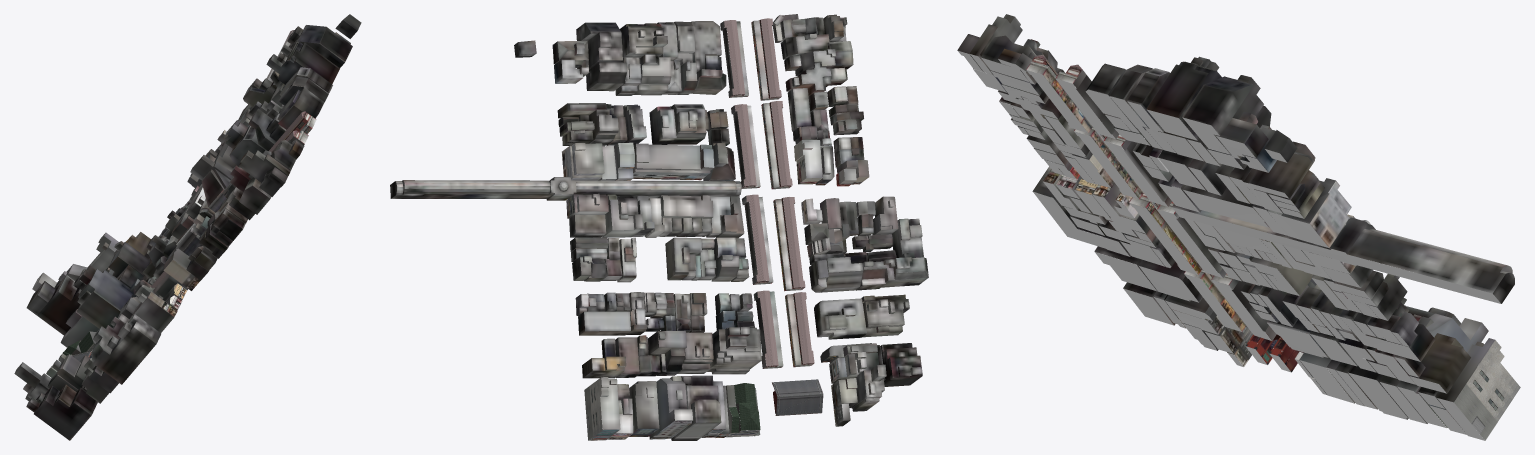
3 renders of one model, left to right at view 1: azimuth 30°, elevation 25°; view 2: azimuth 150°, elevation 25°; view 3: azimuth 270°, elevation 25°, orthographic. The views are drawn at different scales.
Bounding box in the file's own units: 173 × 136 × 160.
Materials: 26 (23 with a texture image).
